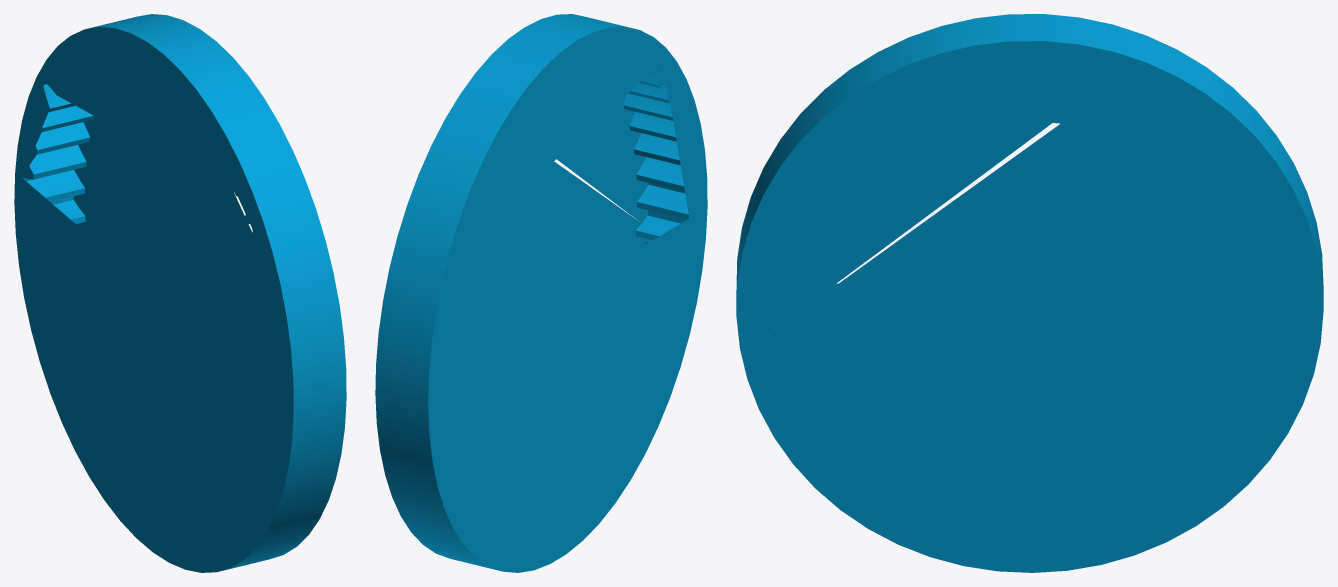
Rendered from internal gear.fbx.
3 views of the same model, side by side, from view 1: azimuth 30°, elevation 25°; view 2: azimuth 150°, elevation 25°; view 3: azimuth 270°, elevation 25° (orthographic). The views are drawn at different scales.
Parts seen in each view (by area): view 1: internal spur gear_iso; view 2: internal spur gear_iso; view 3: internal spur gear_iso.
Boxes of the visible parts, x1=… form: internal spur gear_iso: x1=14, y1=14, x2=346, y2=572; internal spur gear_iso: x1=375, y1=14, x2=707, y2=572; internal spur gear_iso: x1=736, y1=14, x2=1323, y2=572.
Size of the model in its own units: 1.2 by 10.99 by 10.99.
